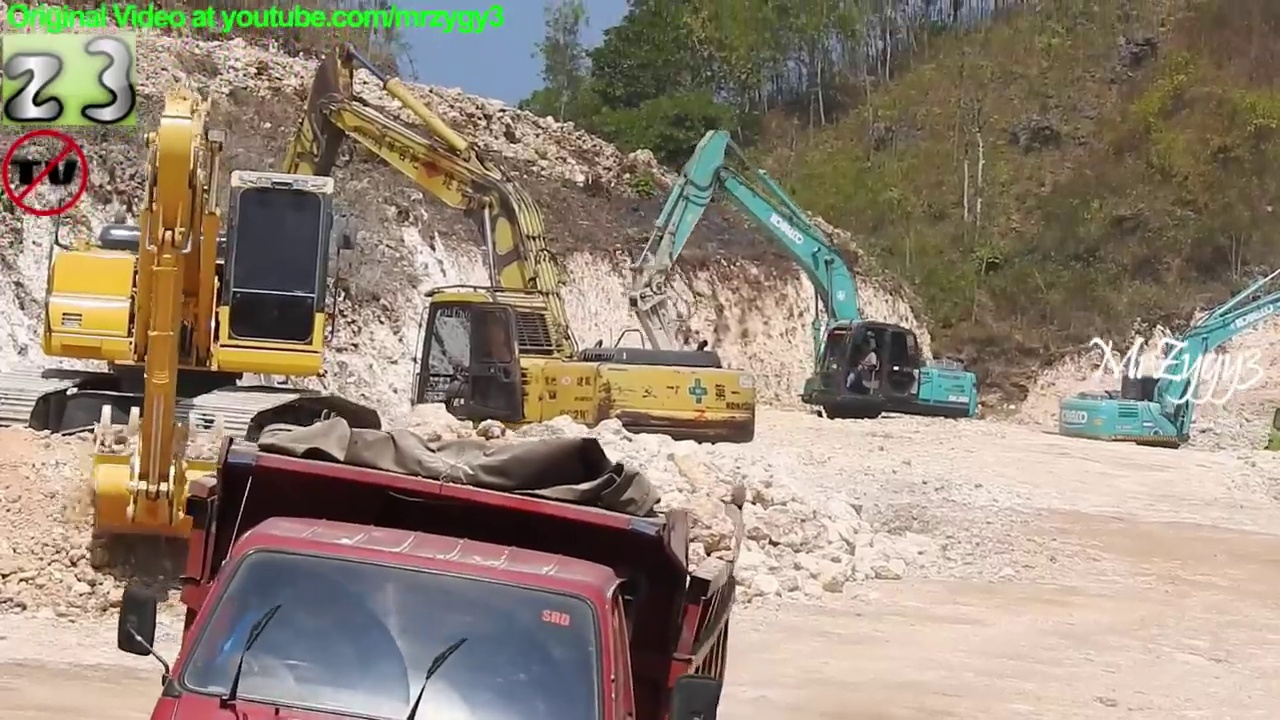excavator: (262, 37, 762, 486), (1, 81, 386, 550), (616, 120, 982, 458), (1053, 261, 1280, 472)
truck: (109, 427, 750, 720)
